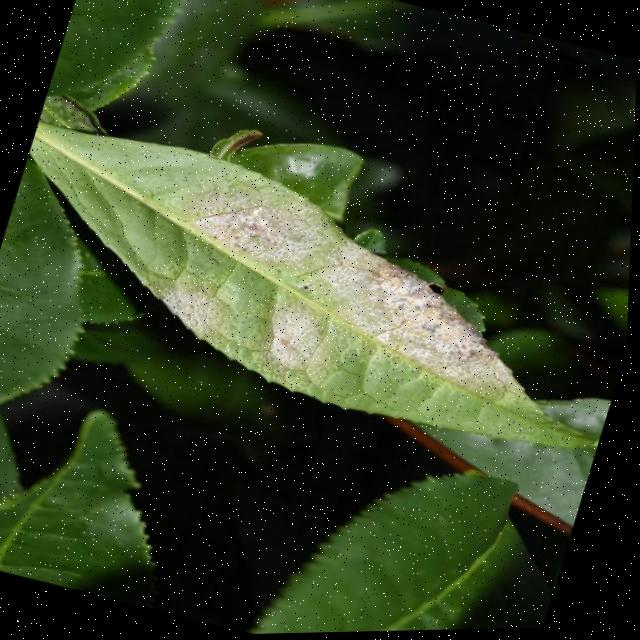Tea exobasidium blight: (148, 187, 543, 422)
